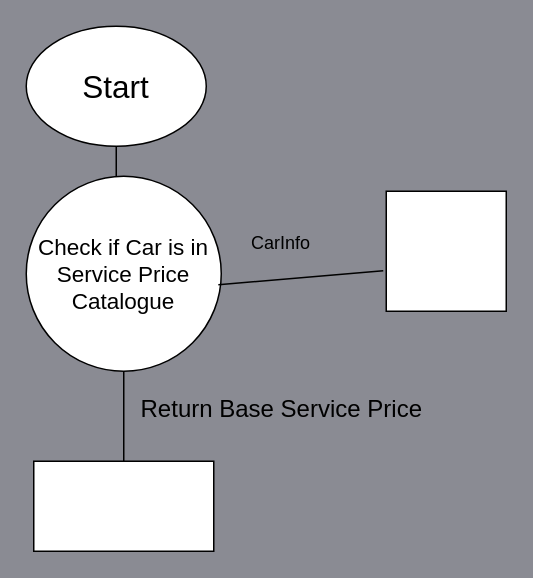
Some shapes in this 533 by 578 pixel diagram are drawn without their labels. Here are the shapes that lost their labels. From the top down, the box of each, then its label:
(385, 190, 506, 311): Car
(32, 460, 214, 551): Service Price Catalogue Text File or Storage System
